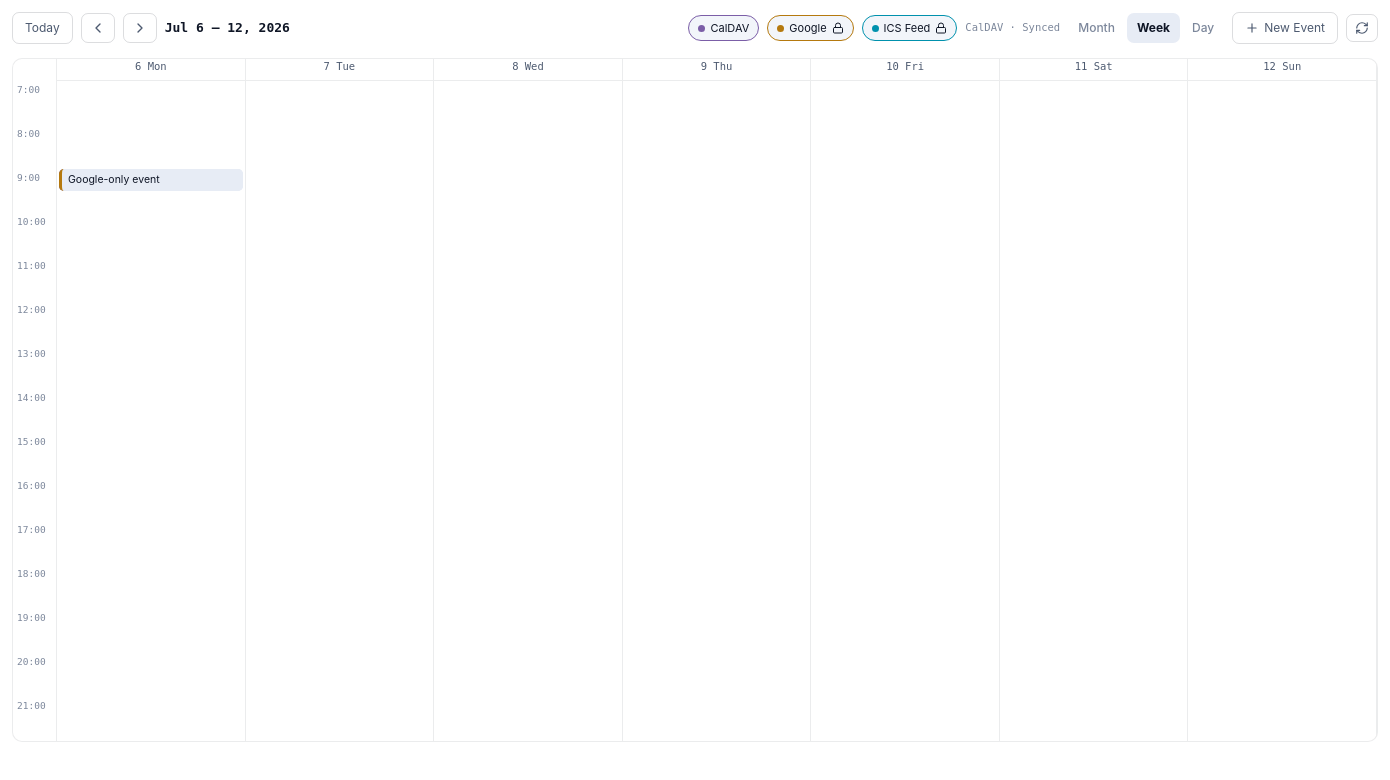
Test: CalendarPanel — 4 states + view switch + source chips + drawer › source chips: toggling a source hides its events from the grid
The image size is (1390, 780).
Expected: the button "Google-only event" is shown, [59, 169, 243, 191]
Click the button with test id "source-chip-google": (810, 28) [767, 15, 854, 41]
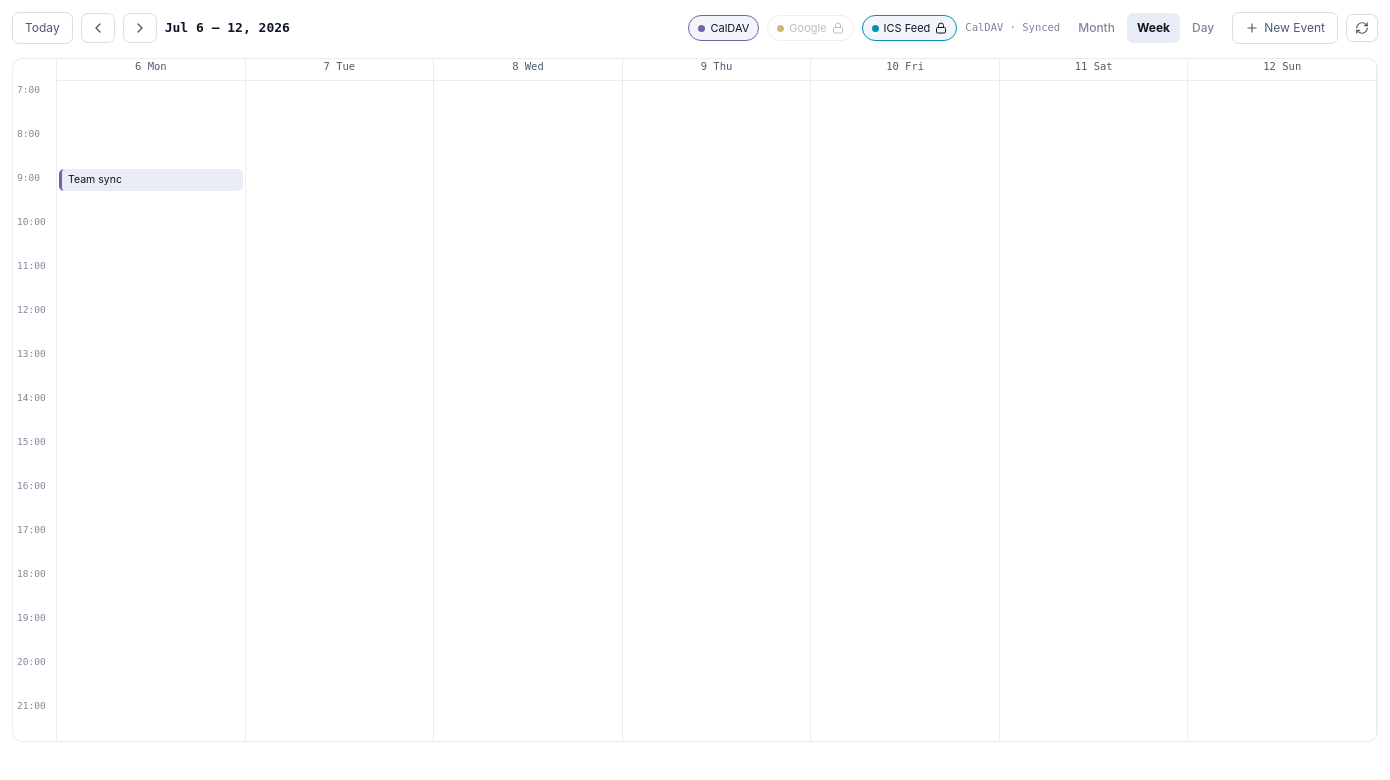
Expected: the button "Team sync" is shown, [59, 169, 243, 191]
Expected: the button "Google-only event" is gone
